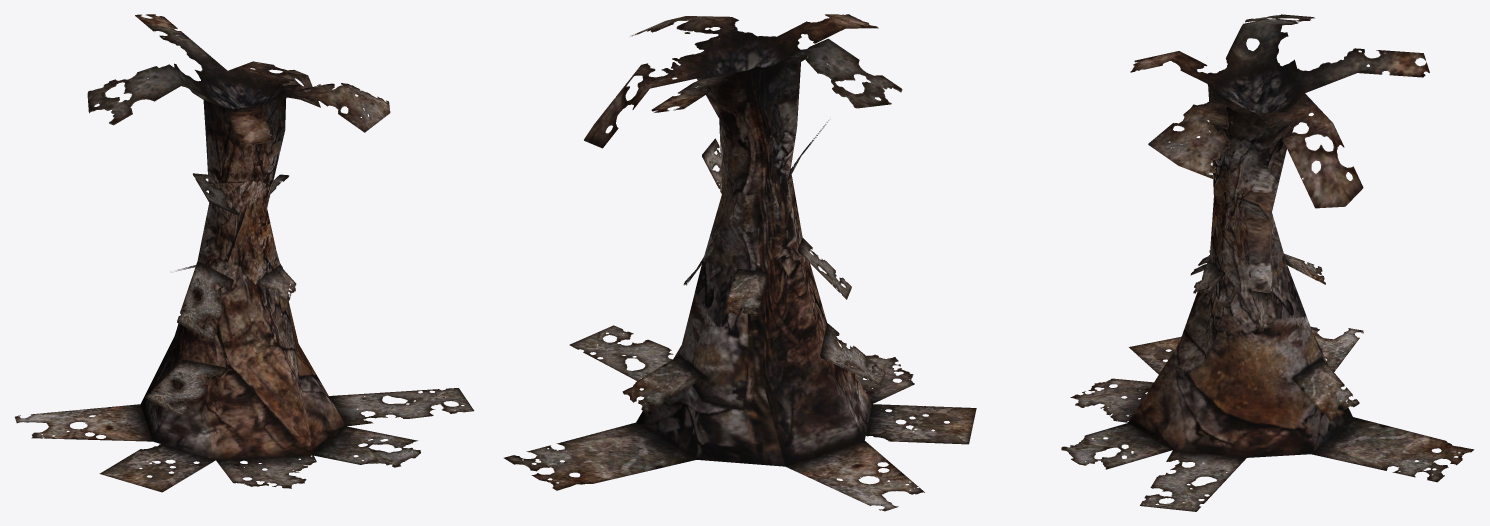
The model's file is altar_lamp.dae.
3 views of the same model, side by side, from view 1: azimuth 30°, elevation 25°; view 2: azimuth 150°, elevation 25°; view 3: azimuth 270°, elevation 25° (orthographic). The views are drawn at different scales.
Parts seen in each view (by area): view 1: polySurface9, polySurface18, polySurface16, polySurface8, polySurface17; view 2: polySurface9, polySurface18, polySurface16, polySurface8, polySurface17; view 3: polySurface9, polySurface18, polySurface8, polySurface16, polySurface17.
Part boxes in pixels (<box>): polySurface9: <box>15,85,474,492</box>; polySurface18: <box>87,14,390,149</box>; polySurface16: <box>145,173,296,415</box>; polySurface8: <box>88,15,389,150</box>; polySurface17: <box>145,174,296,416</box>; polySurface9: <box>504,51,976,511</box>; polySurface18: <box>584,14,902,147</box>; polySurface16: <box>622,120,885,412</box>; polySurface8: <box>584,15,902,148</box>; polySurface17: <box>623,122,885,413</box>; polySurface9: <box>1061,71,1474,511</box>; polySurface18: <box>1130,14,1429,207</box>; polySurface8: <box>1130,15,1429,208</box>; polySurface16: <box>1191,120,1359,420</box>; polySurface17: <box>1190,198,1359,421</box>.
Bounding box in the file's own units: 1.07 × 0.954 × 1.12.
